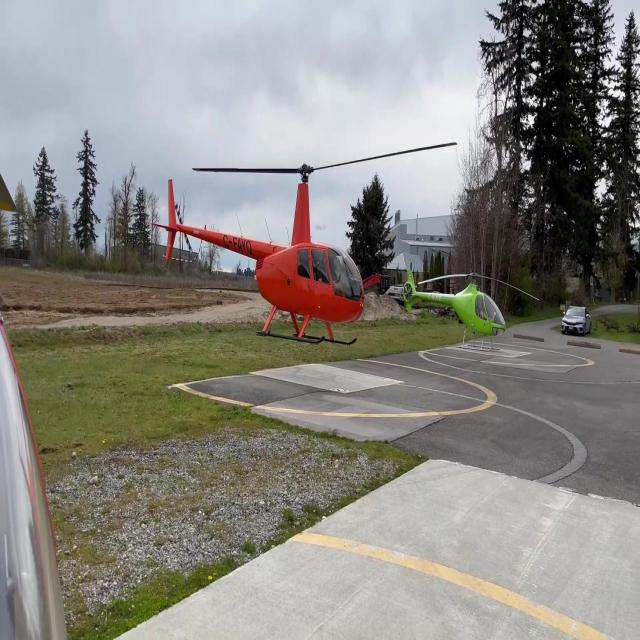CIV_HELO: (150, 161, 362, 347)
